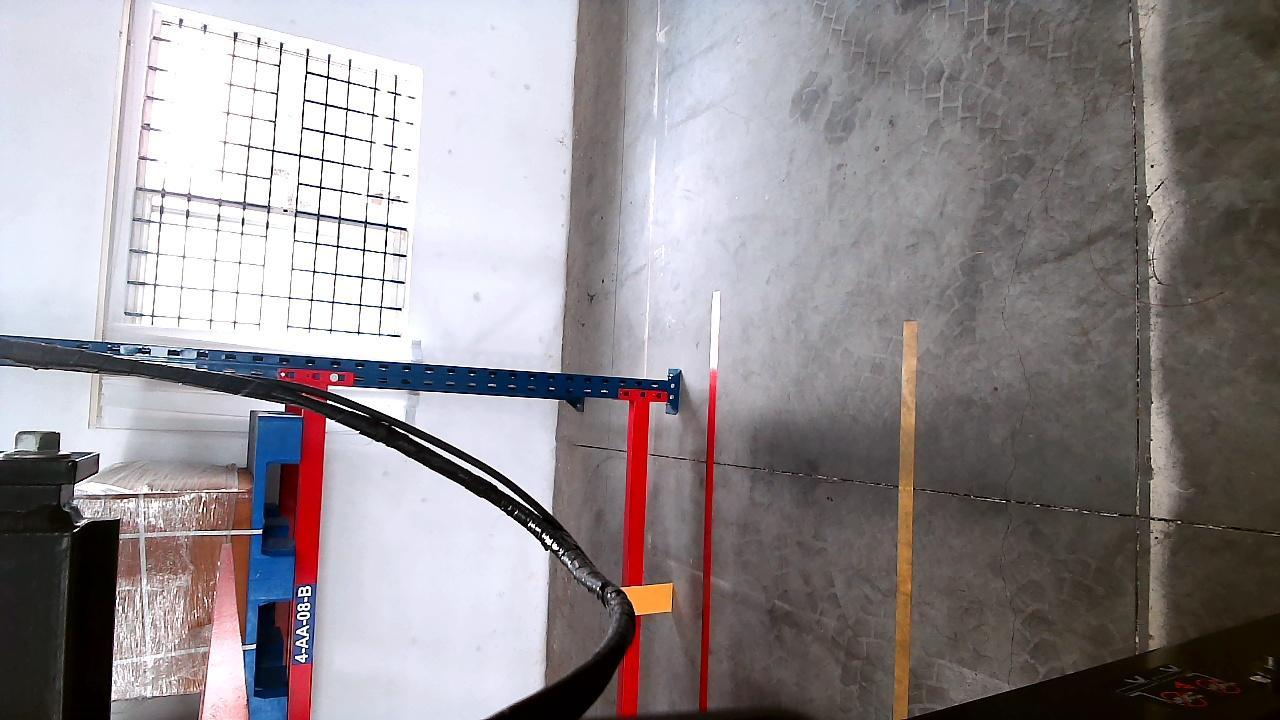red_line: (699, 291, 723, 714)
yellow_line: (892, 326, 919, 712)
